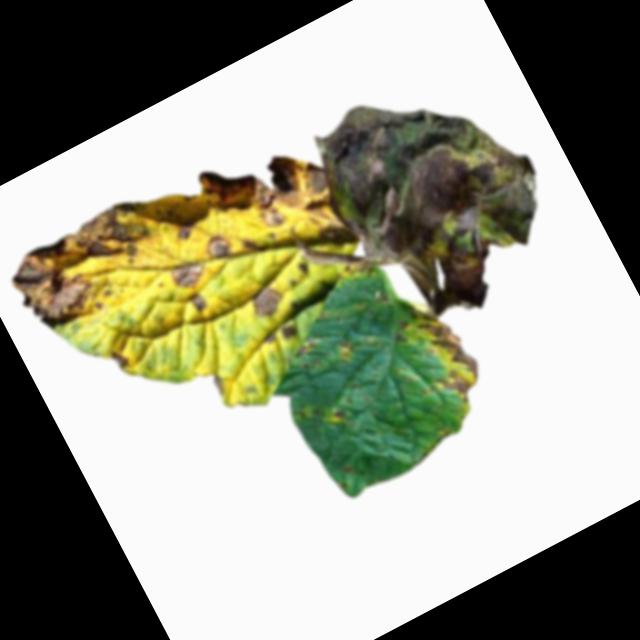Early_blight: (290, 45, 579, 349), (1, 192, 177, 344), (197, 120, 341, 256), (402, 294, 492, 410), (165, 254, 212, 297), (244, 280, 287, 322), (201, 232, 236, 265), (106, 345, 131, 372), (187, 290, 211, 316), (276, 320, 303, 343), (173, 222, 196, 244), (330, 406, 351, 426)
